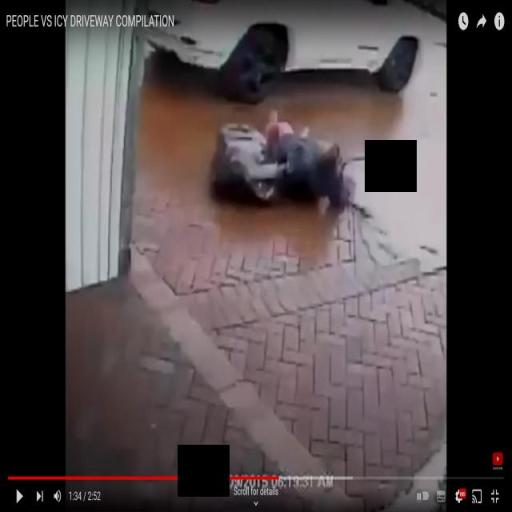Fall: (263, 105, 351, 222)
